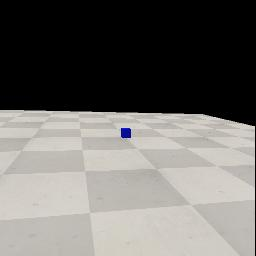box: (121, 128, 131, 138)
